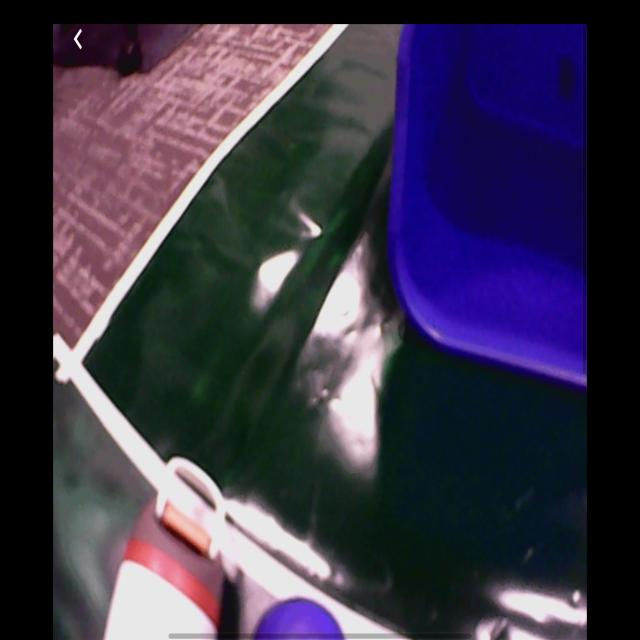ball: (254, 595, 347, 640)
